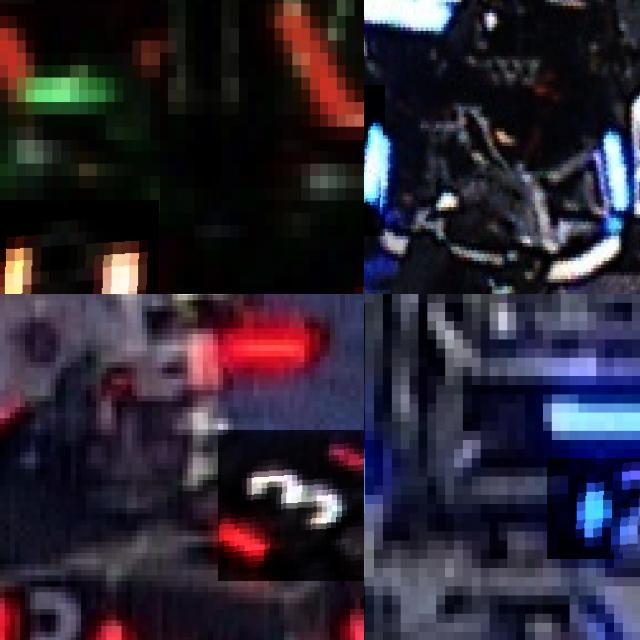B2: (547, 458, 640, 558)
R3: (218, 429, 364, 581), (0, 581, 121, 640)
Rs: (0, 200, 159, 294)
